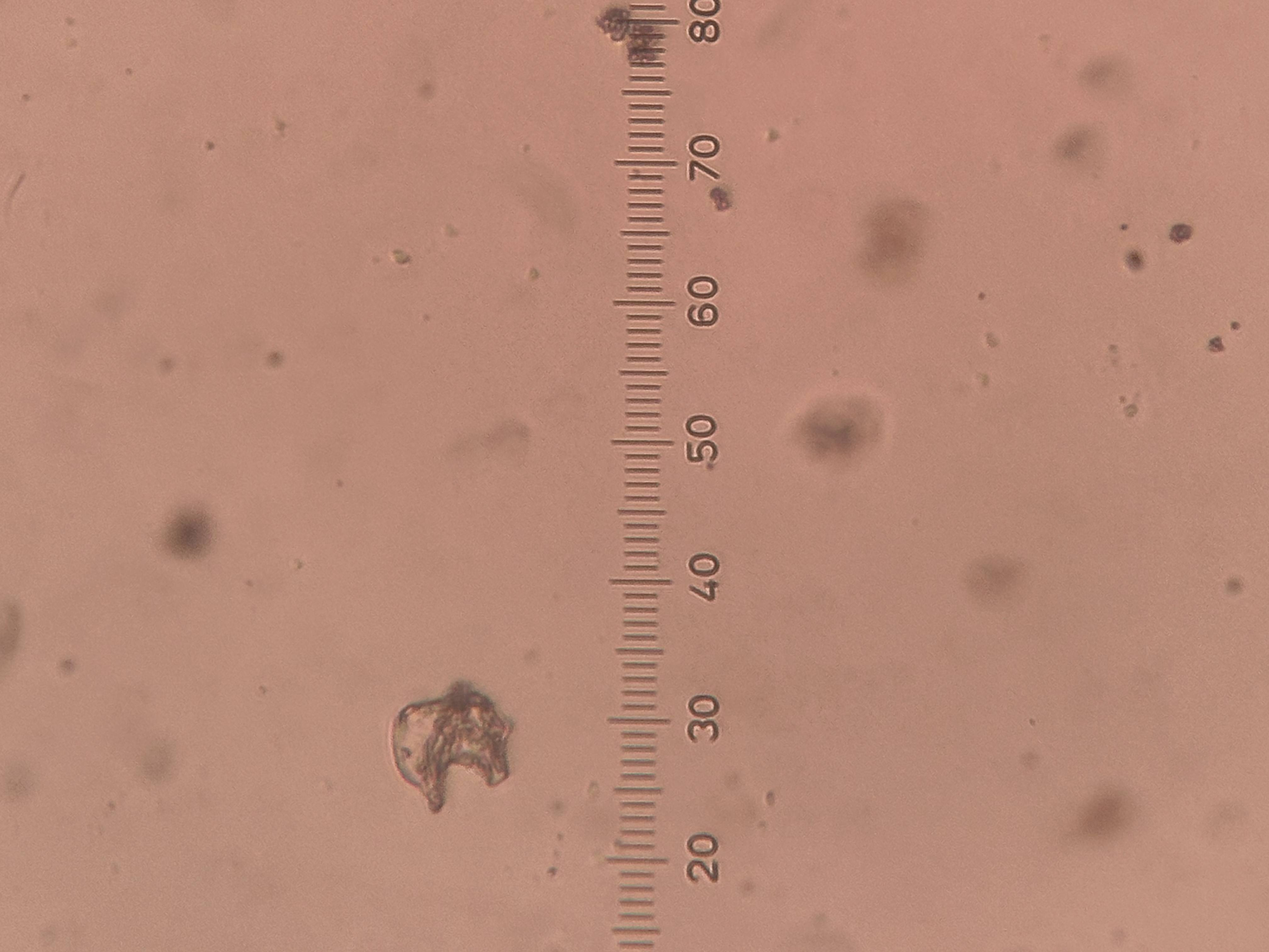not_microplastic: (380, 673, 527, 808), (793, 395, 883, 474)
